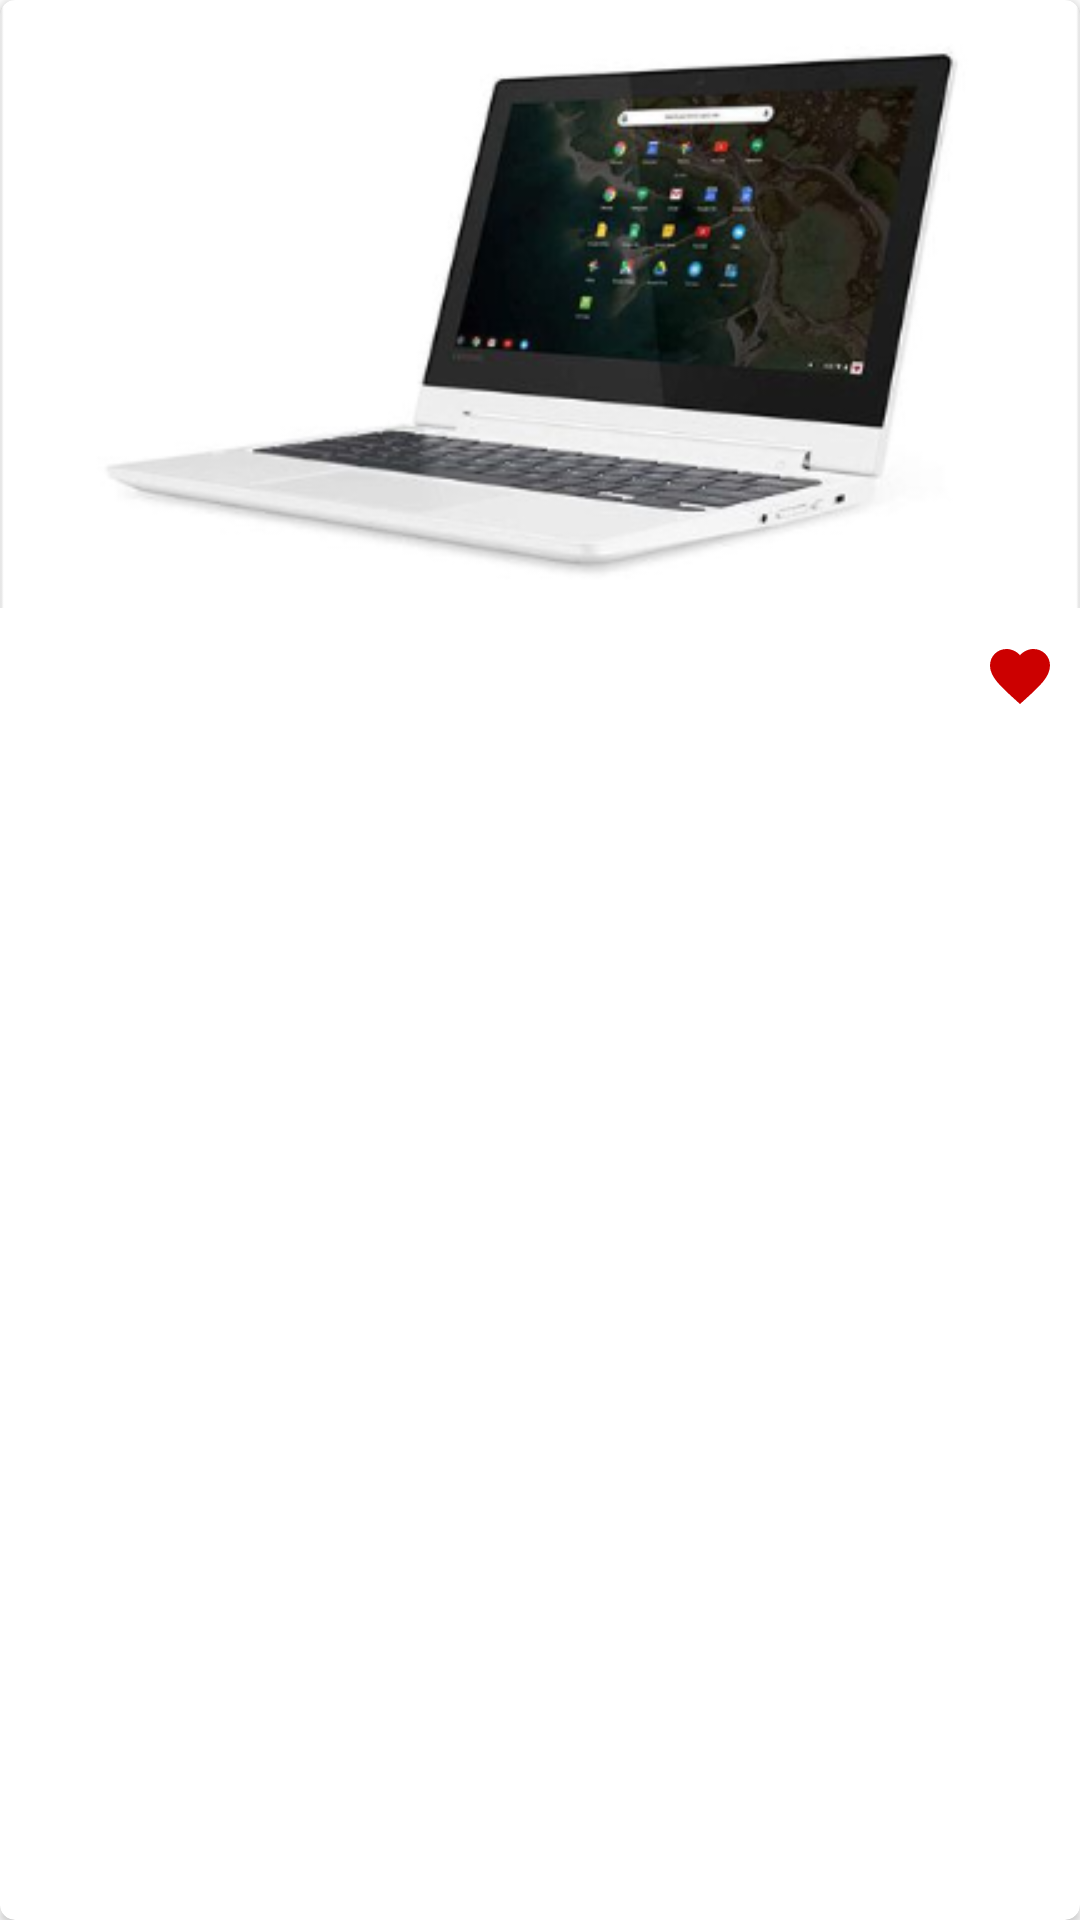

Screen size 1080px x 1920px. Icon name, then its box in pixels as {"x1": x1, "y1": y1, "x2": x2, "y2": y2}:
favorite: {"x1": 990, "y1": 649, "x2": 1050, "y2": 704}
